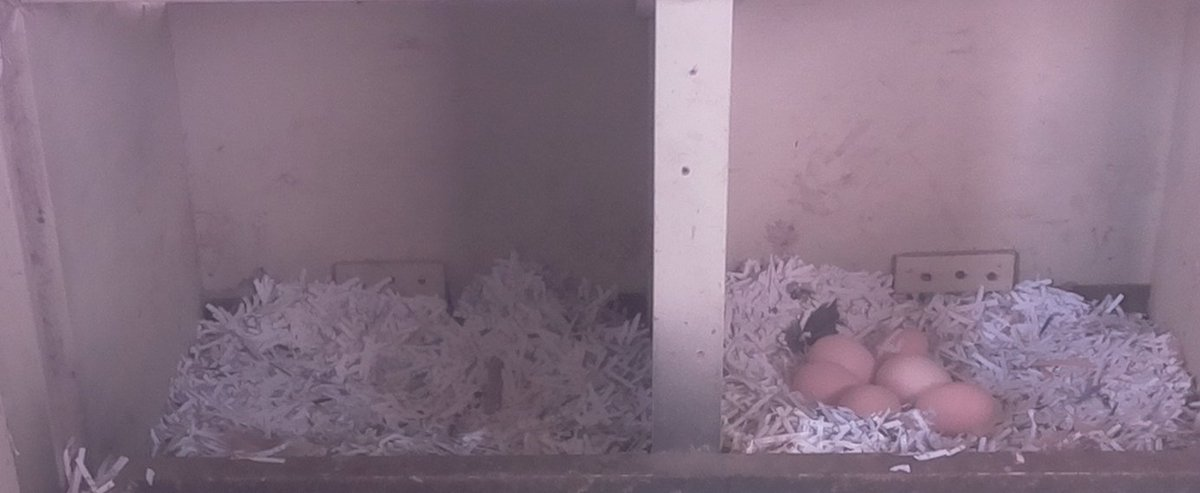egg: (916, 378, 1005, 440), (805, 333, 879, 388), (787, 360, 863, 407), (875, 351, 954, 395), (835, 378, 905, 424), (871, 324, 929, 361)
